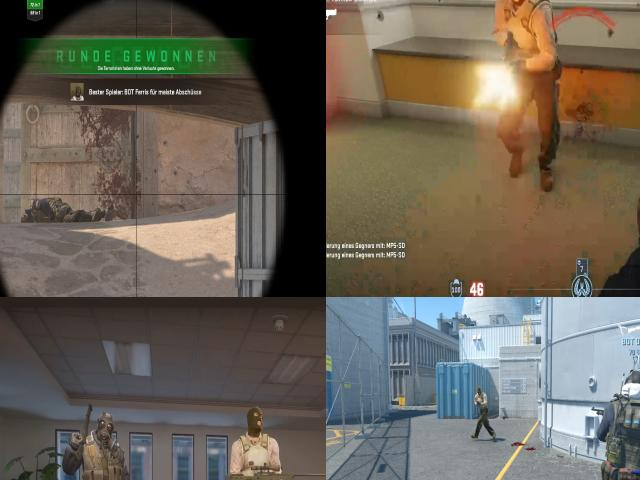CT: (79, 403, 130, 480), (607, 366, 640, 480)
CT-Head: (92, 404, 119, 446), (617, 369, 640, 407)
Dead: (18, 196, 104, 225)
T: (488, 0, 558, 120), (228, 413, 279, 480), (475, 386, 492, 443)
T-Head: (242, 402, 269, 442), (477, 387, 483, 396)
